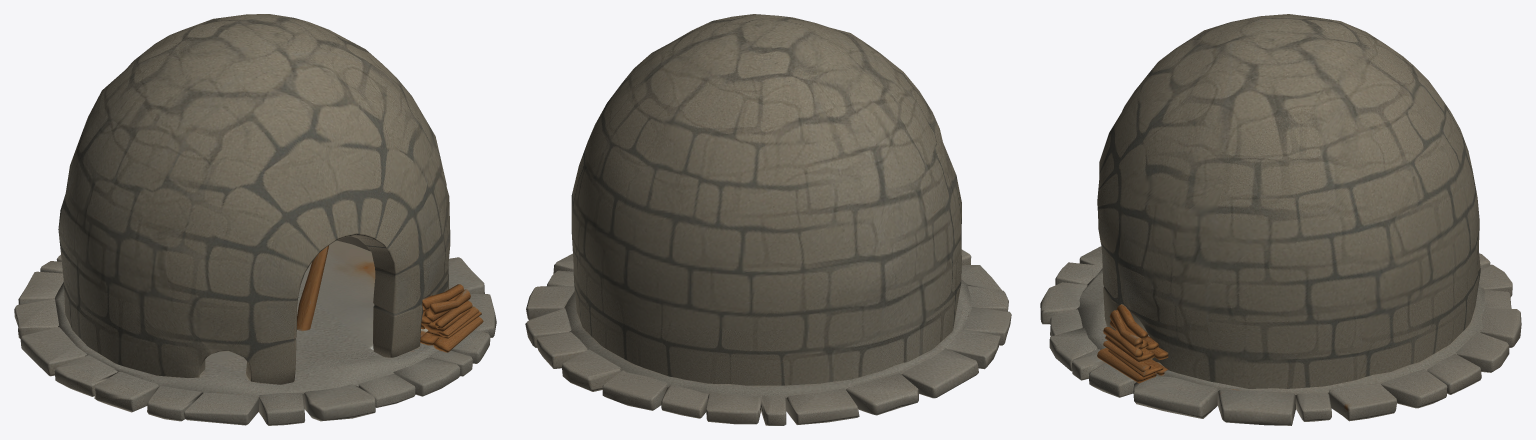
File: kirec_kuyusu.glb
The picture shows the model from 3 angles, left to right: view 1: azimuth 30°, elevation 25°; view 2: azimuth 150°, elevation 25°; view 3: azimuth 270°, elevation 25°; orthographic projection.
Bounding box in the file's own units: 0.959 × 0.6411 × 0.9502.
1 material, 1 textured.
